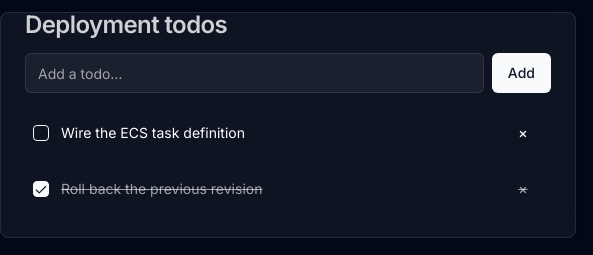
Scenario: TodoPanel › deletes a todo through the row action
Click the button named "Delete Roll back the previous revision" at (523, 189), box [503, 169, 543, 209]
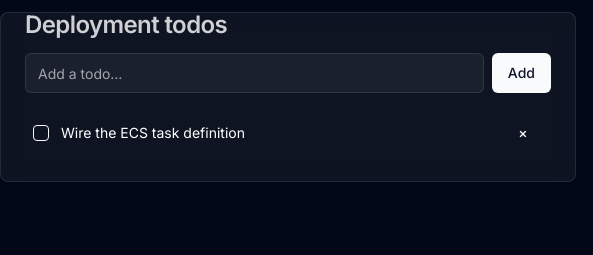
Expected: the number of list items is 1, [25, 109, 551, 157]
